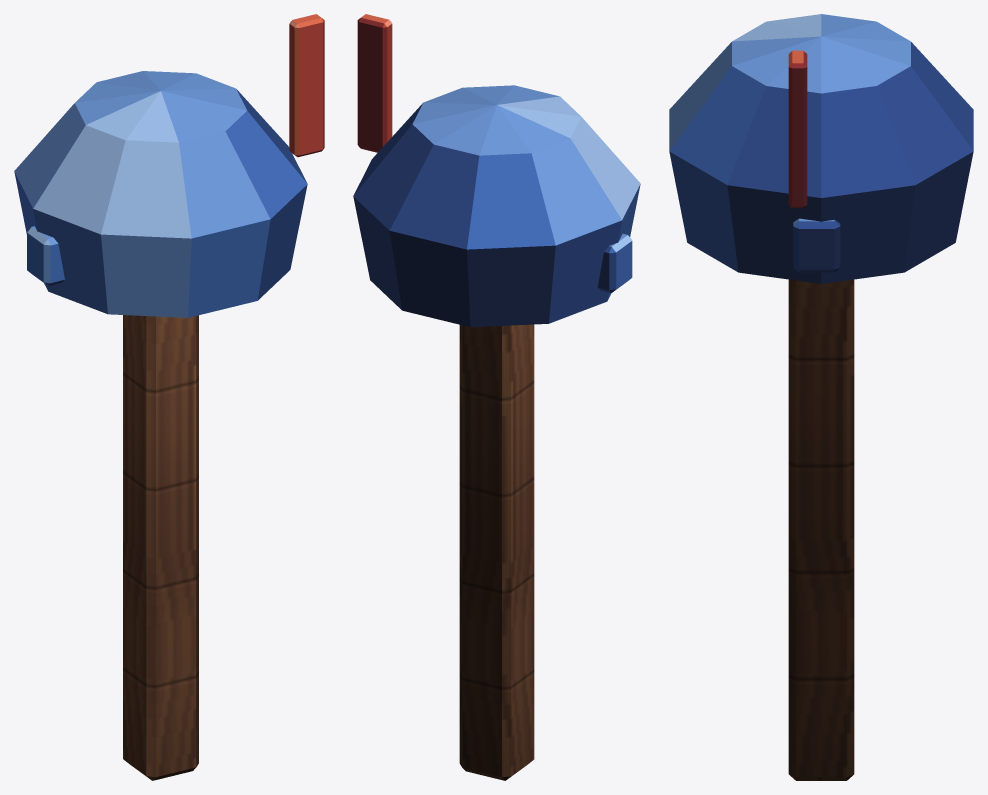
File: mailbox.glb
The picture shows the model from 3 angles, left to right: view 1: azimuth 30°, elevation 25°; view 2: azimuth 150°, elevation 25°; view 3: azimuth 270°, elevation 25°; orthographic projection. The views are drawn at different scales.
Parts seen in each view (by area): view 1: mailbox; view 2: mailbox; view 3: mailbox.
Part boxes in pixels (x1,y1,x2,y2): mailbox: [14, 14, 324, 780]; mailbox: [353, 14, 640, 780]; mailbox: [669, 14, 973, 780].
Bounding box in the file's own units: 0.37 × 0.922 × 0.3234.
4 materials, 4 textured.
